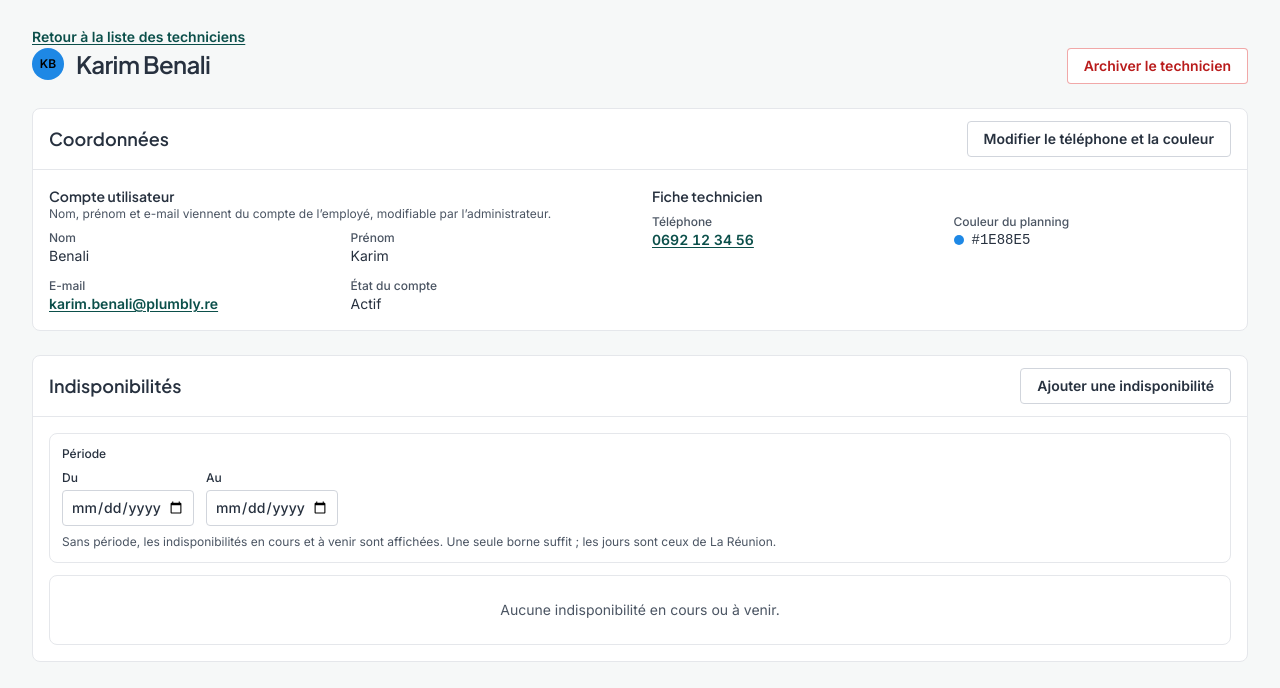
ajout d’une indisponibilité (US12, RG10) › US12 : envoie début et fin en UTC avec fuseau, sans motif quand il est vide, puis ferme, relit la liste et l’annonce
Expected: the element "Indisponibilités" is shown, x1=32 y1=355 x2=1248 y2=662
Step 1. Click the button "Ajouter une indisponibilité" → [1126, 386], box x1=1020 y1=368 x2=1231 y2=404
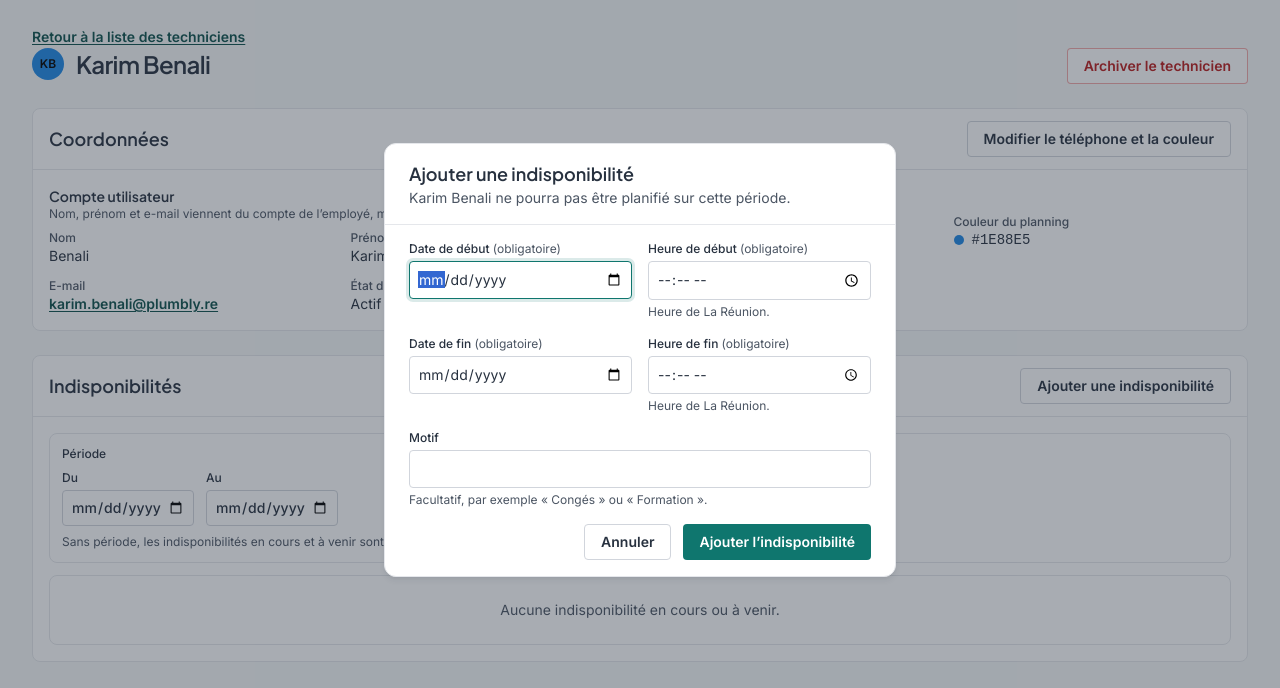
Step 2. Type "2026-11-27" into the date field labelled "Date de début (obligatoire)" → [520, 280], box x1=409 y1=261 x2=632 y2=299
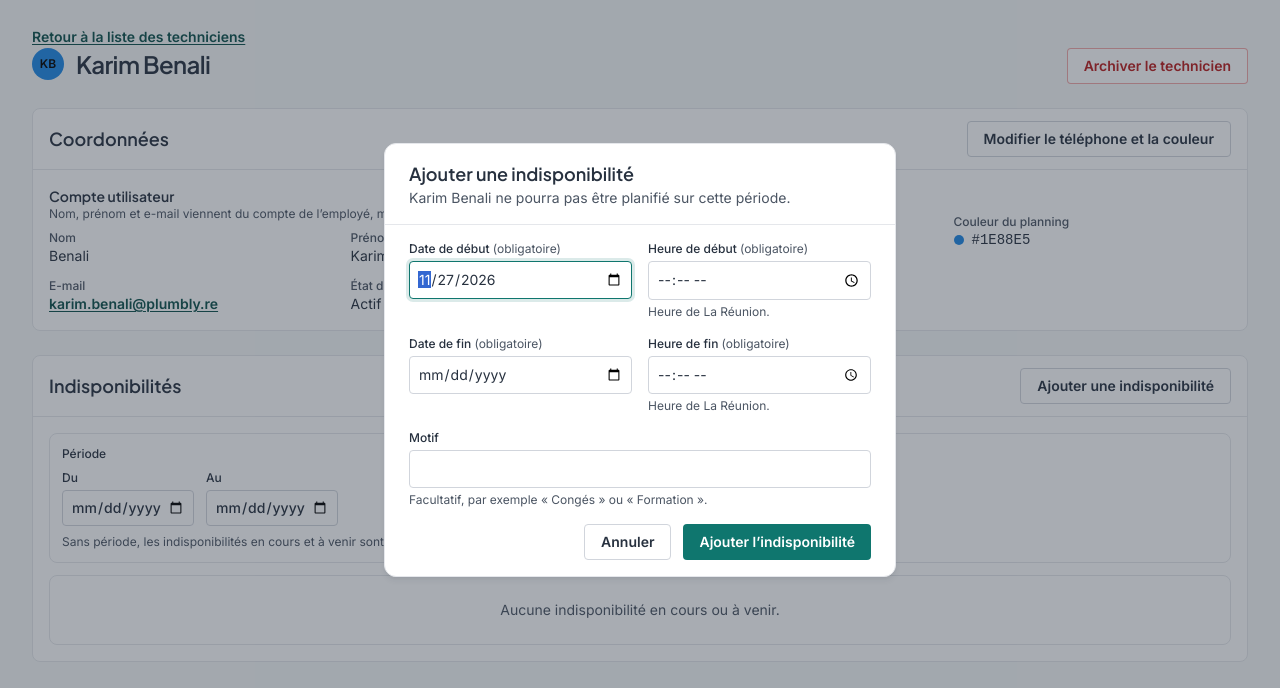
Step 3. Type "08:00" into the time field labelled "Heure de début (obligatoire)" → [760, 280], box x1=648 y1=261 x2=871 y2=300
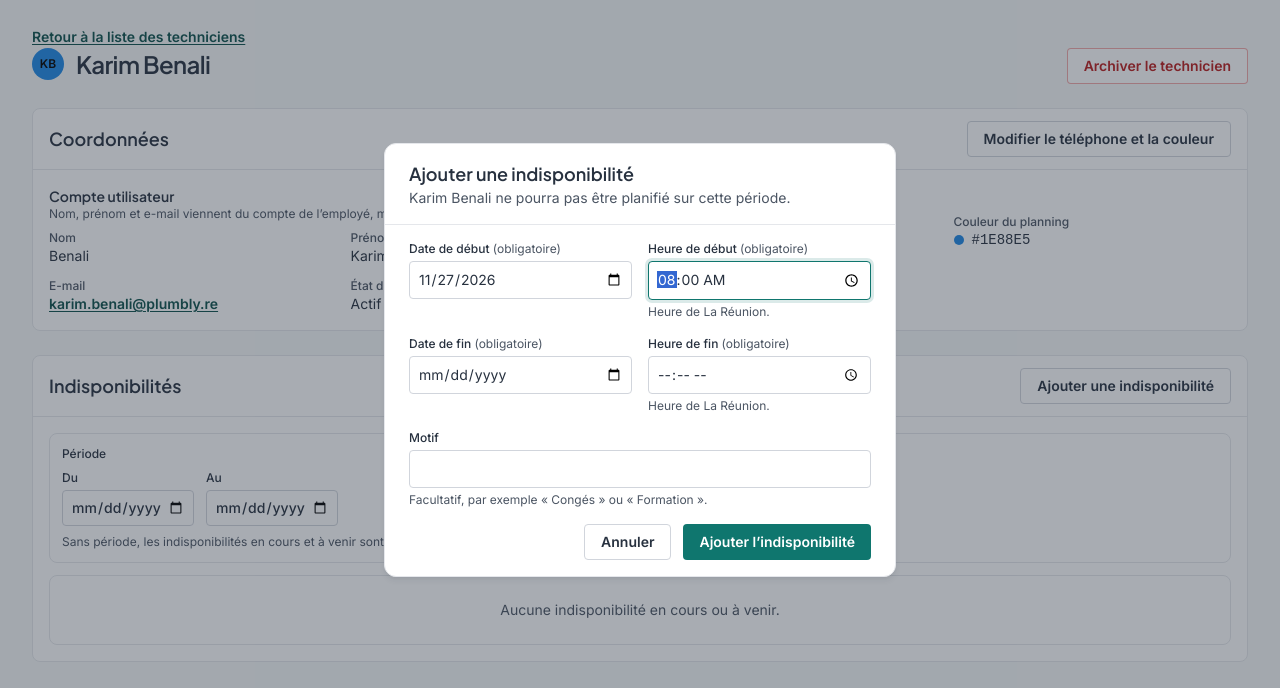
Step 4. Type "2026-11-27" into the date field labelled "Date de fin (obligatoire)" → [520, 374], box x1=409 y1=356 x2=632 y2=394
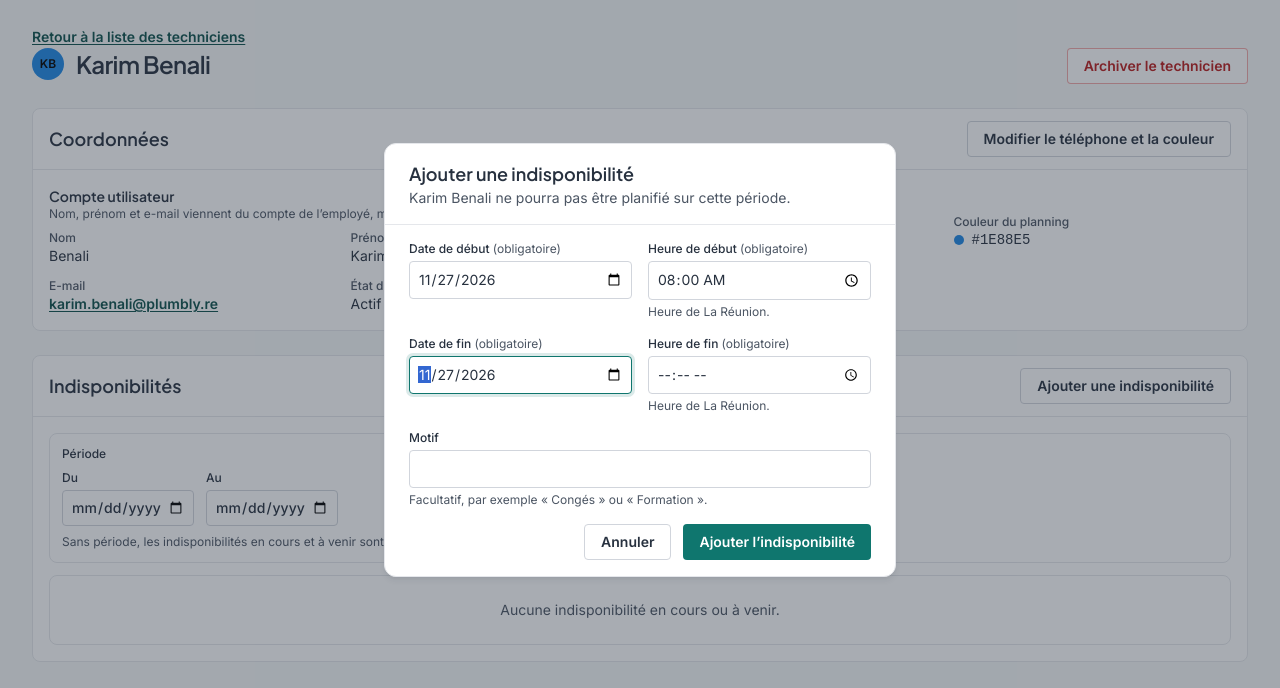
Step 5. Type "12:00" into the time field labelled "Heure de fin (obligatoire)" → [760, 375], box x1=648 y1=356 x2=871 y2=394
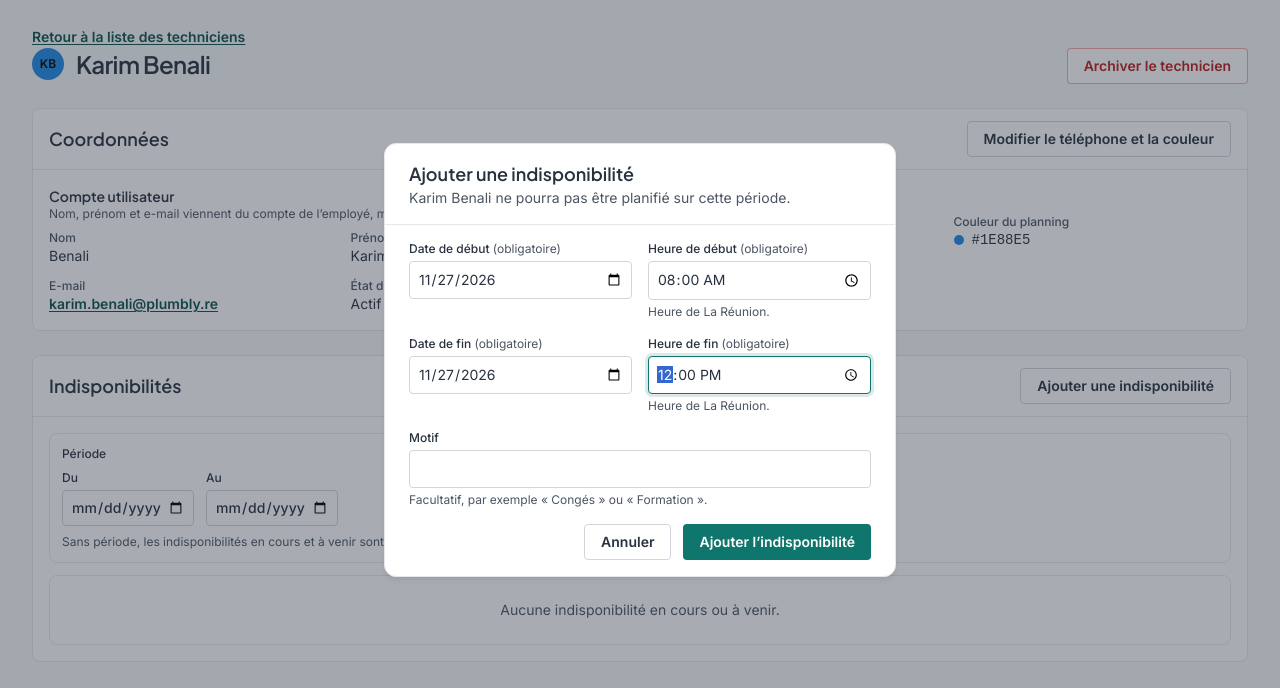
Step 6. Click the button "Ajouter l’indisponibilité" → [777, 542], box x1=684 y1=524 x2=871 y2=560
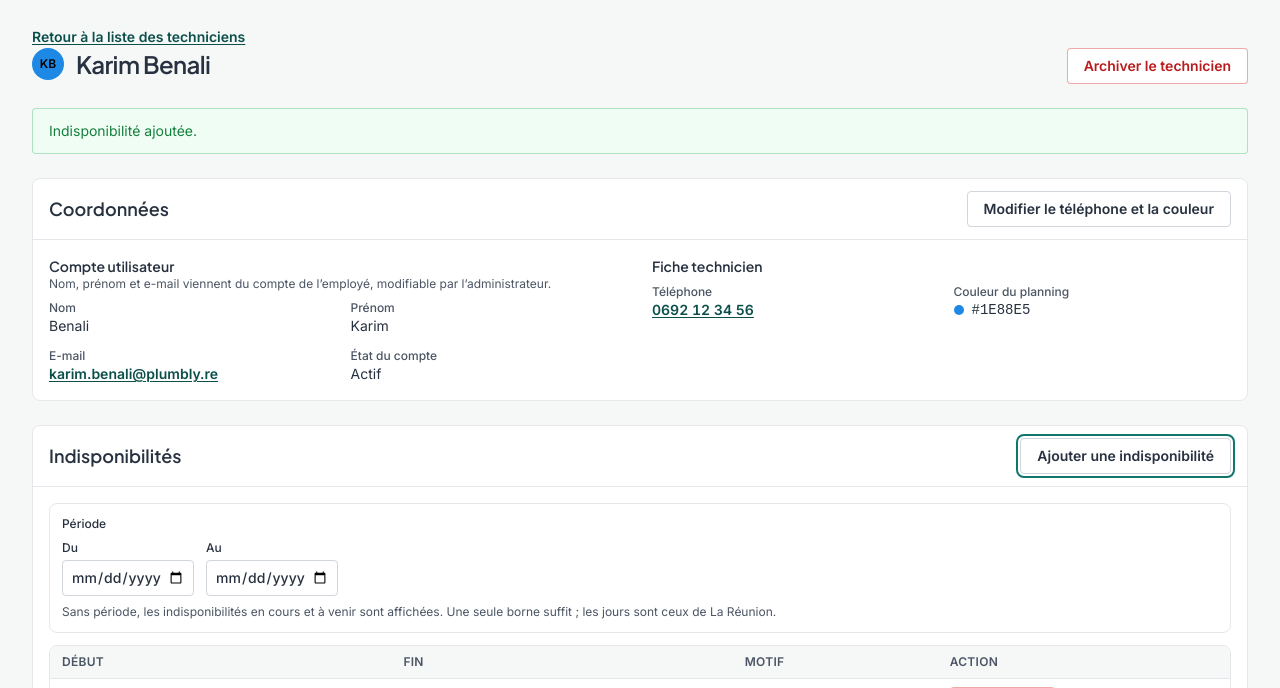
Expected: the dialog is gone
Expected: the message named "Confirmation" reads "Indisponibilité ajoutée.", x1=49 y1=122 x2=197 y2=139
